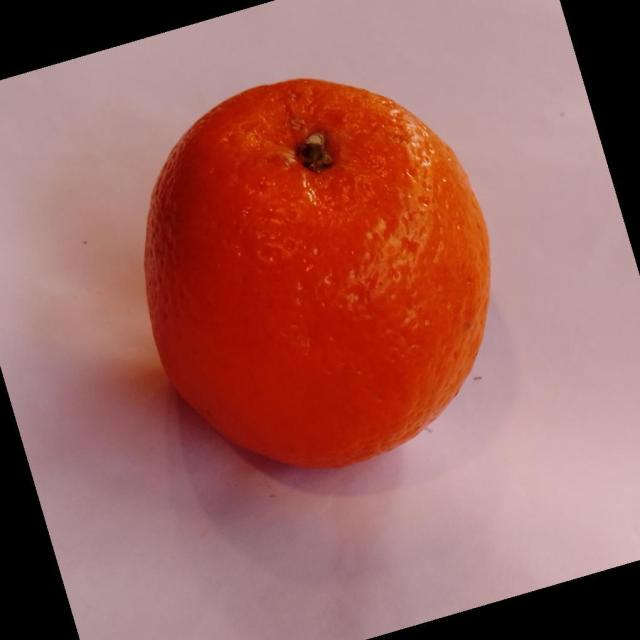fresh orange: (142, 77, 492, 470)
